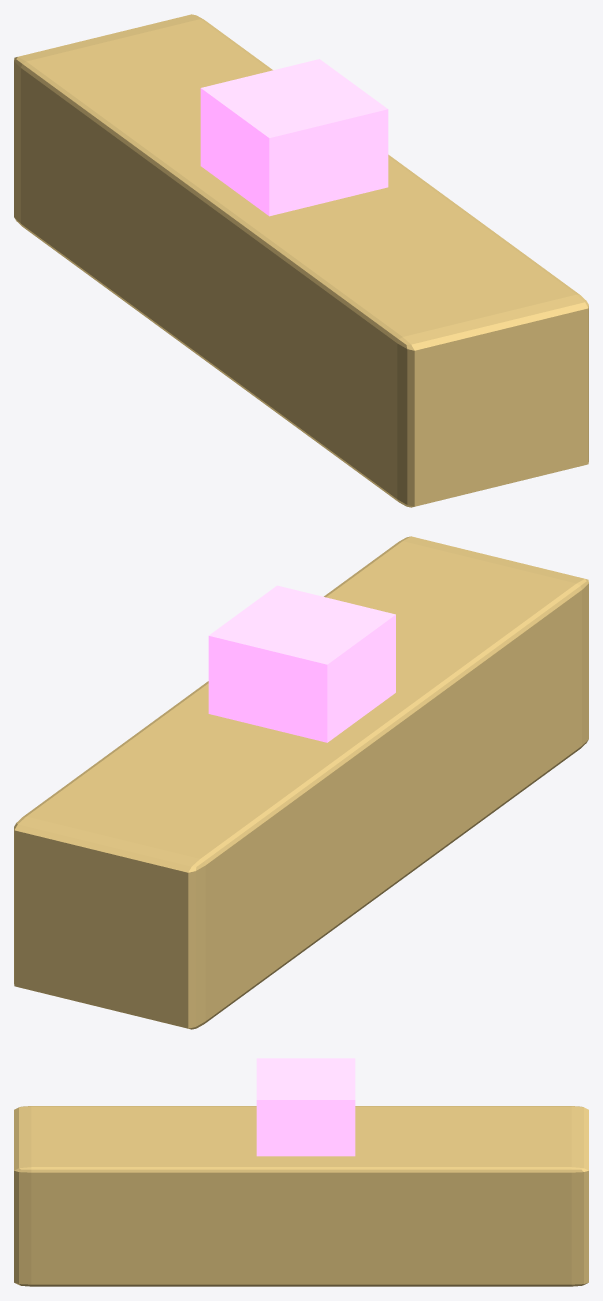
The model's file is SM_Keeper_OverlordEcho_Frag3.fbx.
The picture shows the model from 3 angles, top to bottom: view 1: azimuth 30°, elevation 25°; view 2: azimuth 150°, elevation 25°; view 3: azimuth 270°, elevation 25°; orthographic projection. The views are drawn at different scales.
Parts seen in each view (by area): view 1: SM_Keeper_OverlordEcho_Frag3; view 2: SM_Keeper_OverlordEcho_Frag3; view 3: SM_Keeper_OverlordEcho_Frag3.
Boxes of the visible parts, box(x1,y1,x2,y2) form: SM_Keeper_OverlordEcho_Frag3: box(14, 14, 588, 507); SM_Keeper_OverlordEcho_Frag3: box(14, 536, 588, 1029); SM_Keeper_OverlordEcho_Frag3: box(14, 1058, 588, 1286).
Bounding box in the file's own units: 1.56 × 1.96 × 5.83.
